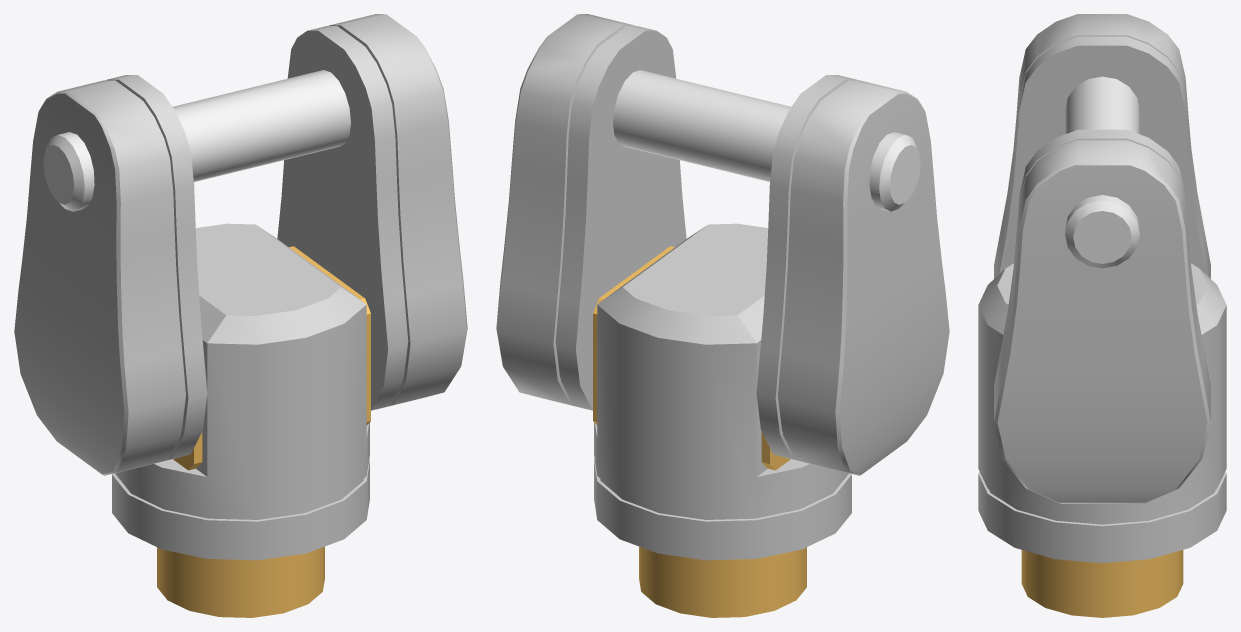
File: arm1.gltf
3 renders of one model, left to right at view 1: azimuth 30°, elevation 25°; view 2: azimuth 150°, elevation 25°; view 3: azimuth 270°, elevation 25°, orthographic. The views are drawn at different scales.
Parts seen in each view (by area): view 1: arm1; view 2: arm1; view 3: arm1.
Part boxes in pixels (<box>): arm1: <box>14,14,467,617</box>; arm1: <box>496,14,949,617</box>; arm1: <box>978,14,1226,617</box>.
Size of the model in its own units: 2.96 by 4.03 by 1.83.
